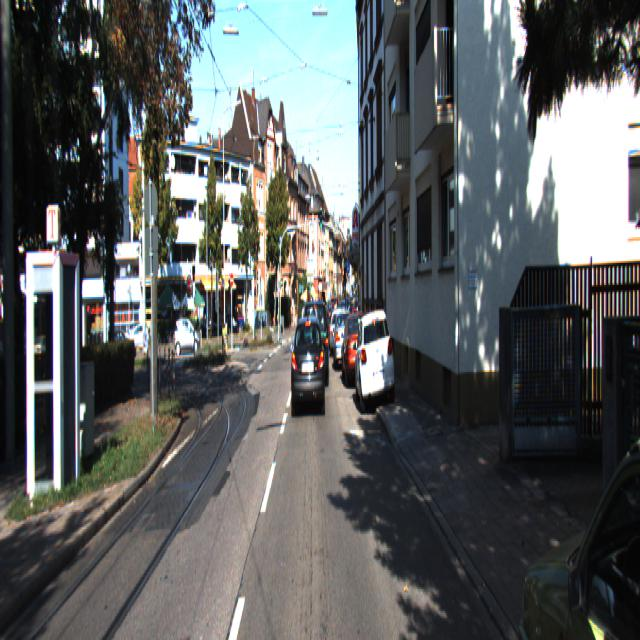Car: (516, 328, 639, 638), (354, 302, 395, 415), (290, 312, 325, 421), (340, 309, 372, 392), (302, 298, 329, 390), (332, 310, 354, 374), (174, 318, 200, 354)
